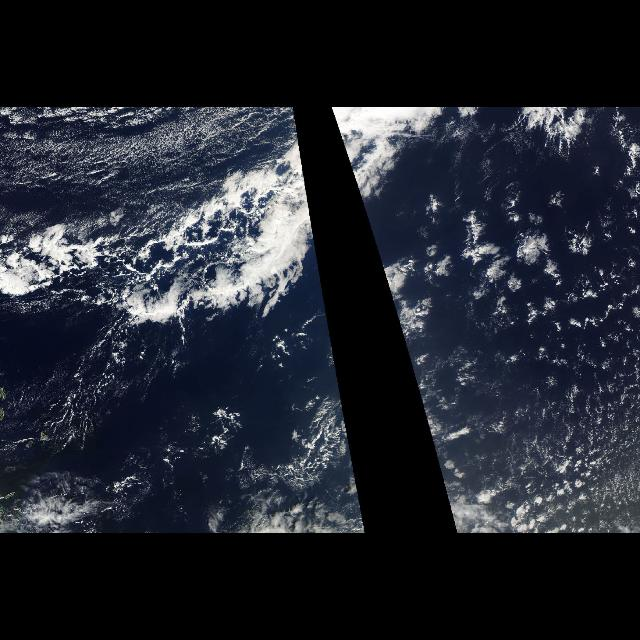Fish: (5, 190, 329, 316), (358, 190, 369, 226)
Flower: (426, 169, 636, 516)
Gravel: (19, 190, 273, 332)
Sugar: (2, 108, 306, 194)
